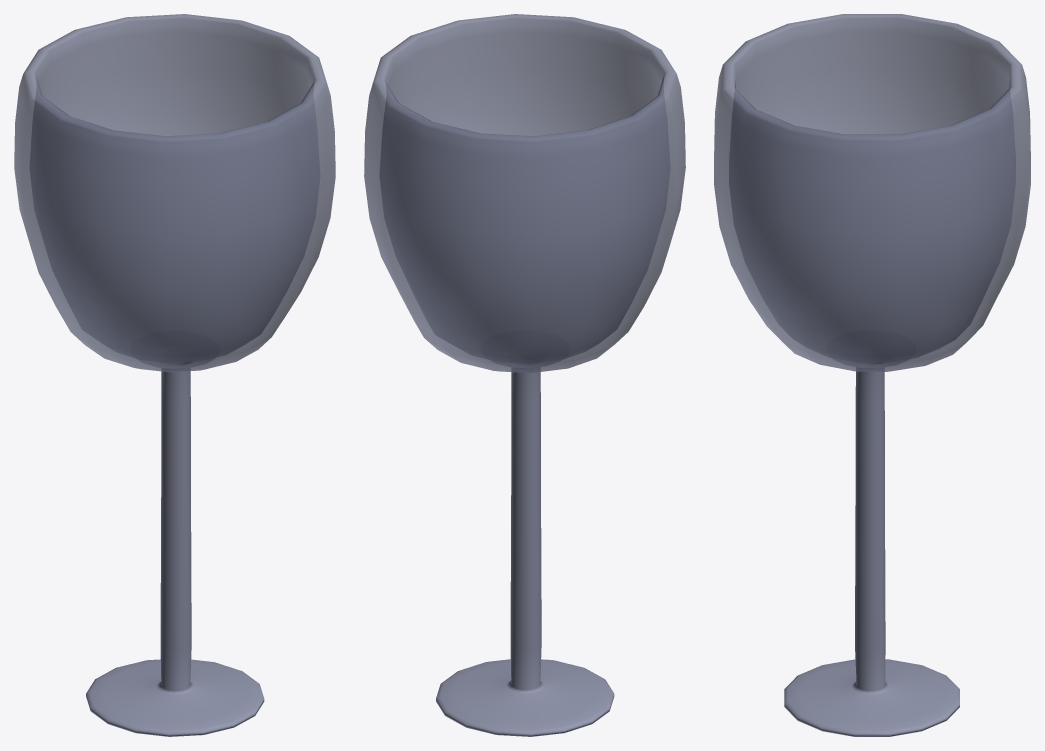
Rendered from wineGlass.fbx.
The picture shows the model from 3 angles, left to right: view 1: azimuth 30°, elevation 25°; view 2: azimuth 150°, elevation 25°; view 3: azimuth 270°, elevation 25°; orthographic projection.
Parts seen in each view (by area): view 1: pCylinder4; view 2: pCylinder4; view 3: pCylinder4.
Part boxes in pixels (x1=…): pCylinder4: x1=14, y1=14, x2=335, y2=736; pCylinder4: x1=364, y1=14, x2=685, y2=736; pCylinder4: x1=714, y1=14, x2=1030, y2=736.
Size of the model in its own units: 12.54 by 27.36 by 12.54.
